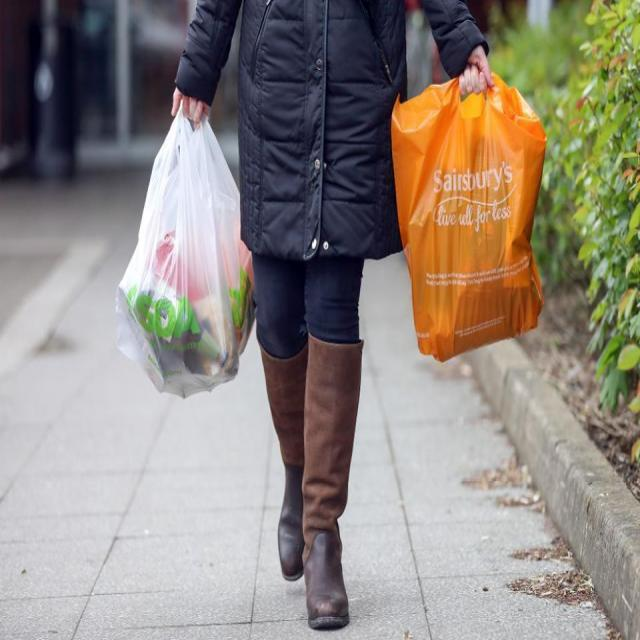plastic_bag: (379, 64, 561, 368), (116, 98, 258, 402)
